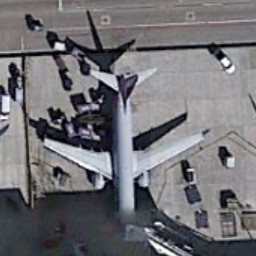Airplane: (33, 60, 214, 245)
